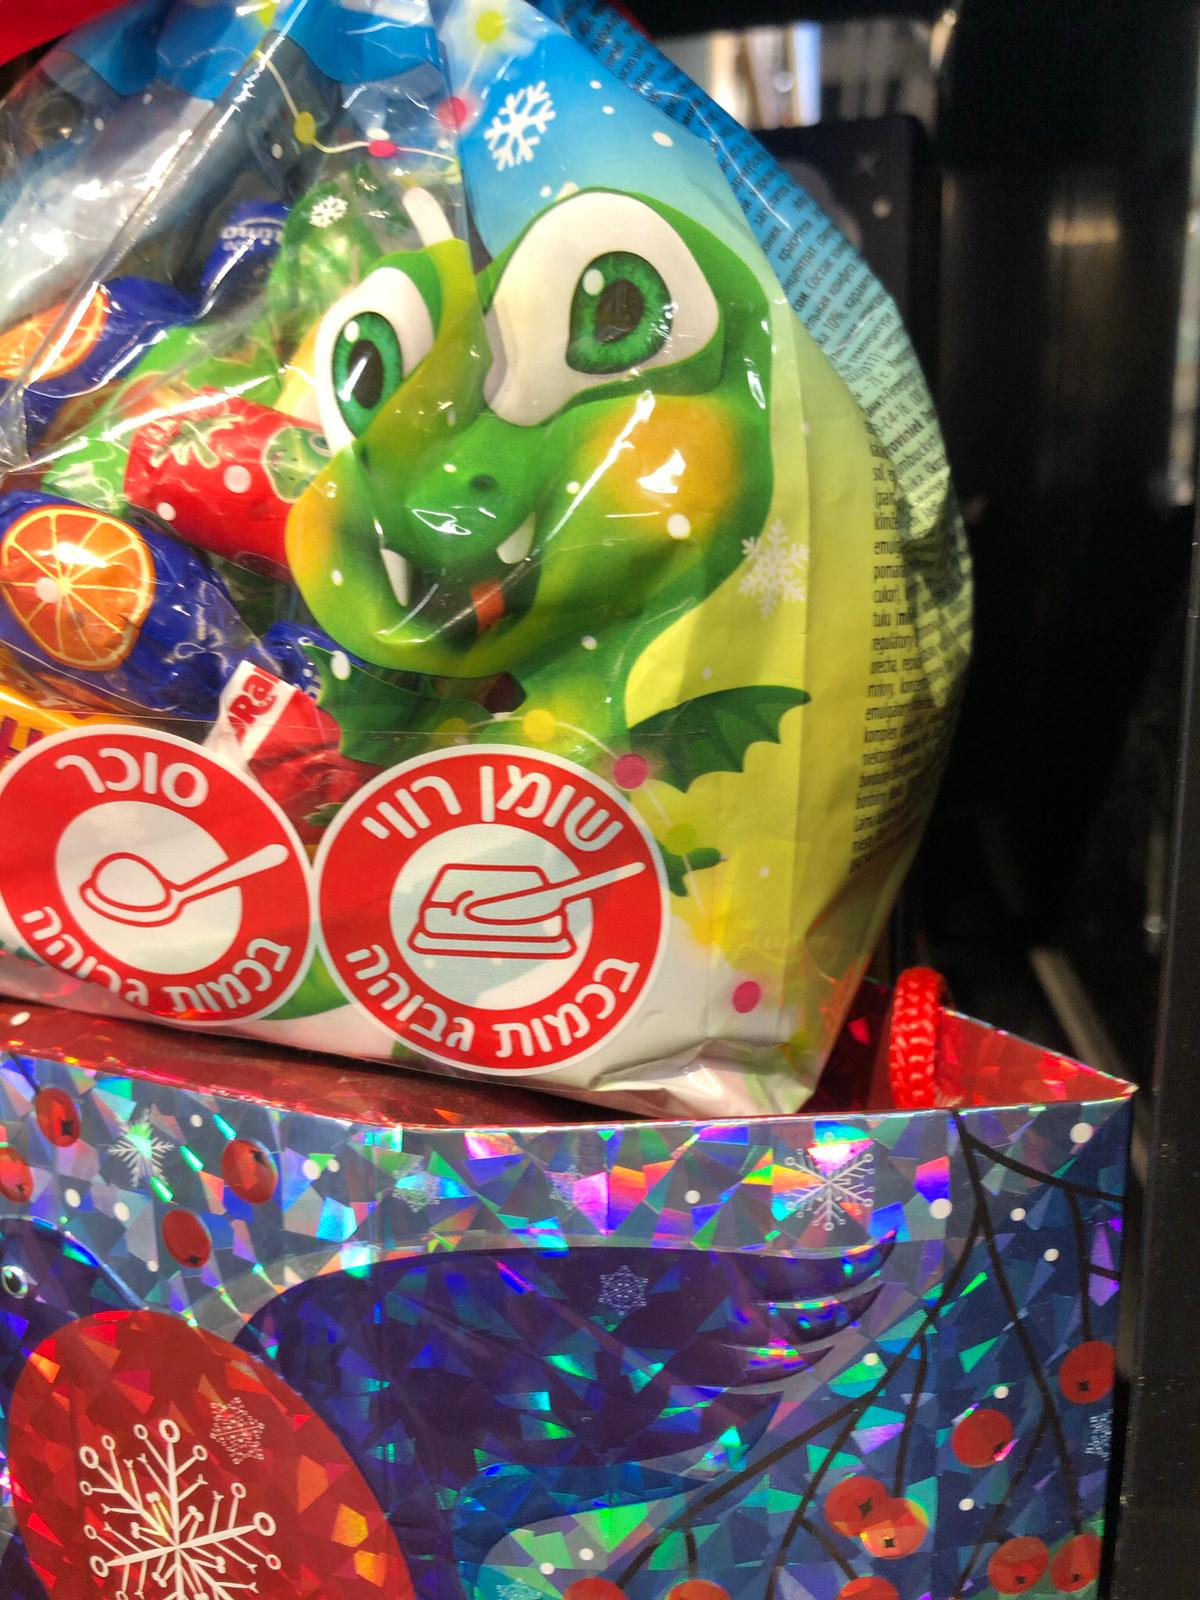fat: (313, 743, 672, 1081)
sugar: (1, 723, 314, 1024)
